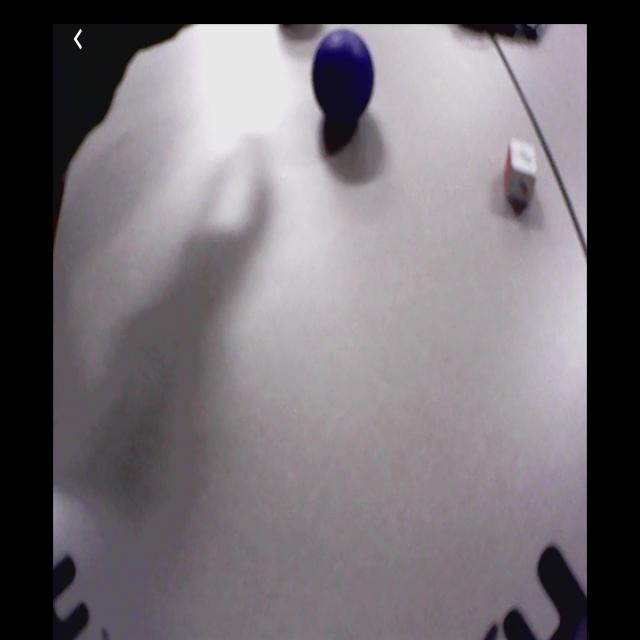ball: (314, 32, 375, 123)
